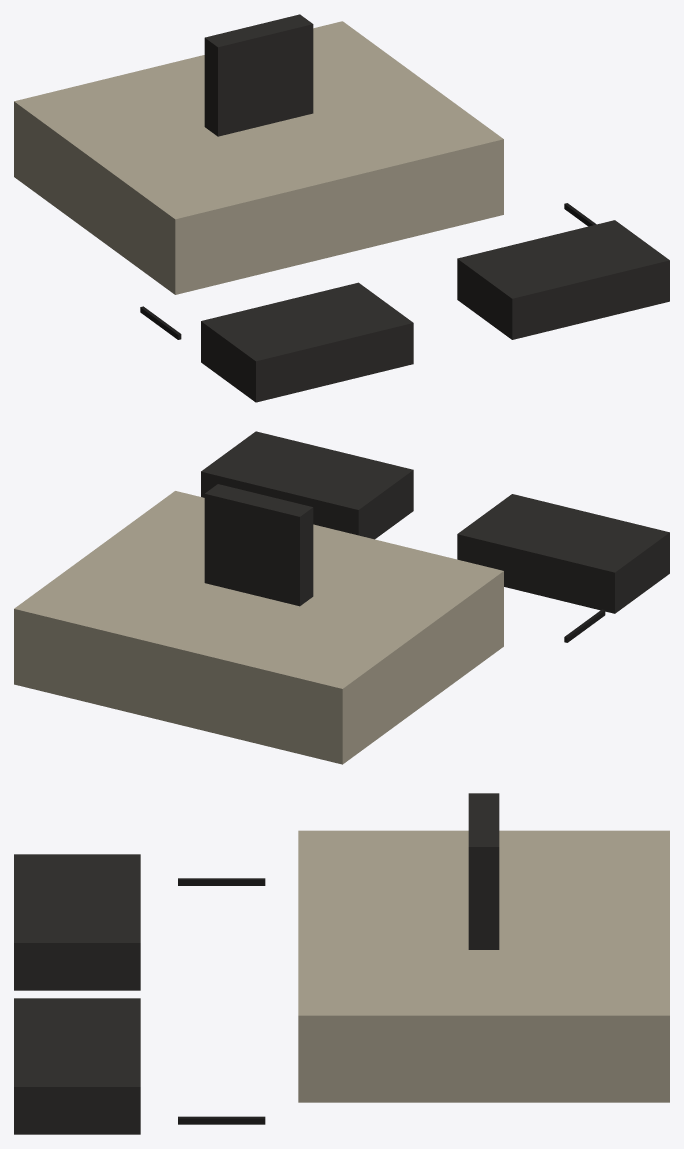
Rendered from bedroom-game-console.glb.
3 views of the same model, one above another, from view 1: azimuth 30°, elevation 25°; view 2: azimuth 150°, elevation 25°; view 3: azimuth 270°, elevation 25° (orthographic). The views are drawn at different scales.
Parts seen in each view (by area): view 1: plastic-light, plastic-dark, rubber; view 2: plastic-light, plastic-dark; view 3: plastic-light, plastic-dark, rubber.
Part boxes in pixels (x1,y1,x2,y2): plastic-light: (14, 21, 503, 294); plastic-dark: (201, 14, 669, 402); rubber: (140, 203, 596, 339); plastic-light: (14, 491, 503, 764); plastic-dark: (201, 431, 669, 613); plastic-light: (298, 830, 669, 1102); plastic-dark: (14, 793, 499, 1134); rubber: (178, 878, 265, 1124).
Size of the model in its own units: 0.26 by 0.1 by 0.3.
